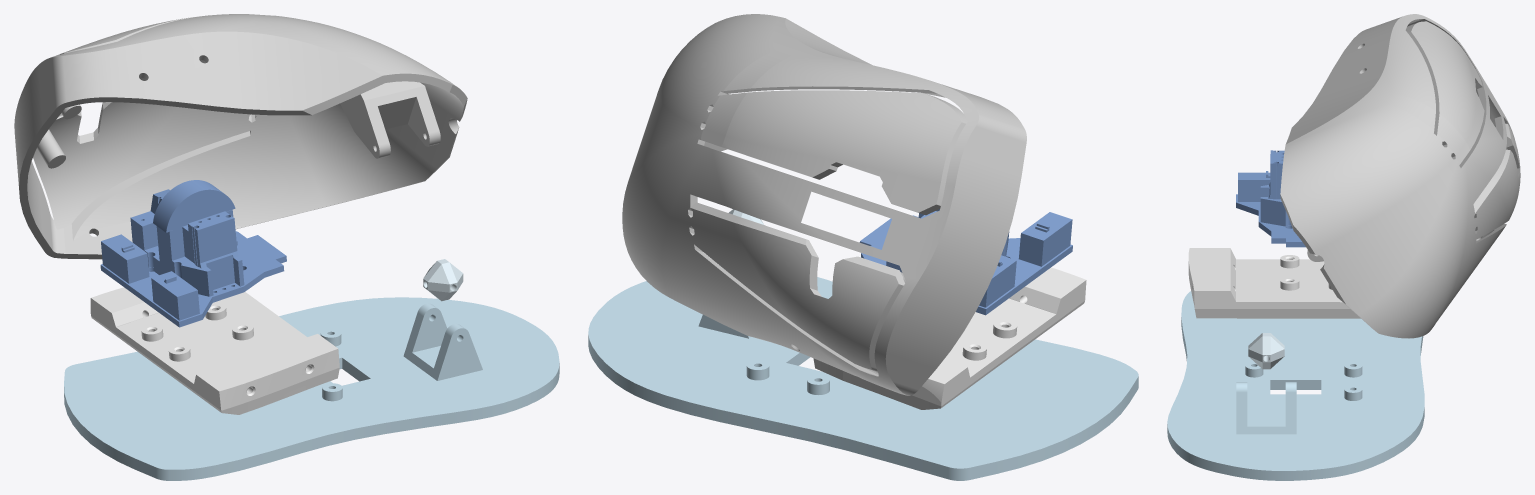
File: ExplodedMouse.gltf
3 views of the same model, side by side, from view 1: azimuth 30°, elevation 25°; view 2: azimuth 150°, elevation 25°; view 3: azimuth 270°, elevation 25° (orthographic). The views are drawn at different scales.
Visible parts, largest first — view 1: Ergoshell, Base, Chassis, HeadBoardOutline, UniversalJoiner; view 2: Ergoshell, Base, Chassis, HeadBoardOutline; view 3: Ergoshell, Base, Chassis, HeadBoardOutline, UniversalJoiner.
Part boxes in pixels (x1,y1,x2,y2): Ergoshell: (14,14,467,259); Base: (64,297,559,480); Chassis: (90,287,339,414); HeadBoardOutline: (100,180,286,327); UniversalJoiner: (423,259,463,301); Ergoshell: (622,14,1026,395); Base: (588,277,1138,480); Chassis: (813,267,1086,409); HeadBoardOutline: (859,209,1072,315); Ergoshell: (1280,14,1520,338); Base: (1167,291,1424,480); Chassis: (1188,248,1360,318); HeadBoardOutline: (1236,150,1305,247); UniversalJoiner: (1248,333,1284,369).
Bounding box in the file's own units: 0.1247 × 0.0905 × 0.097.
